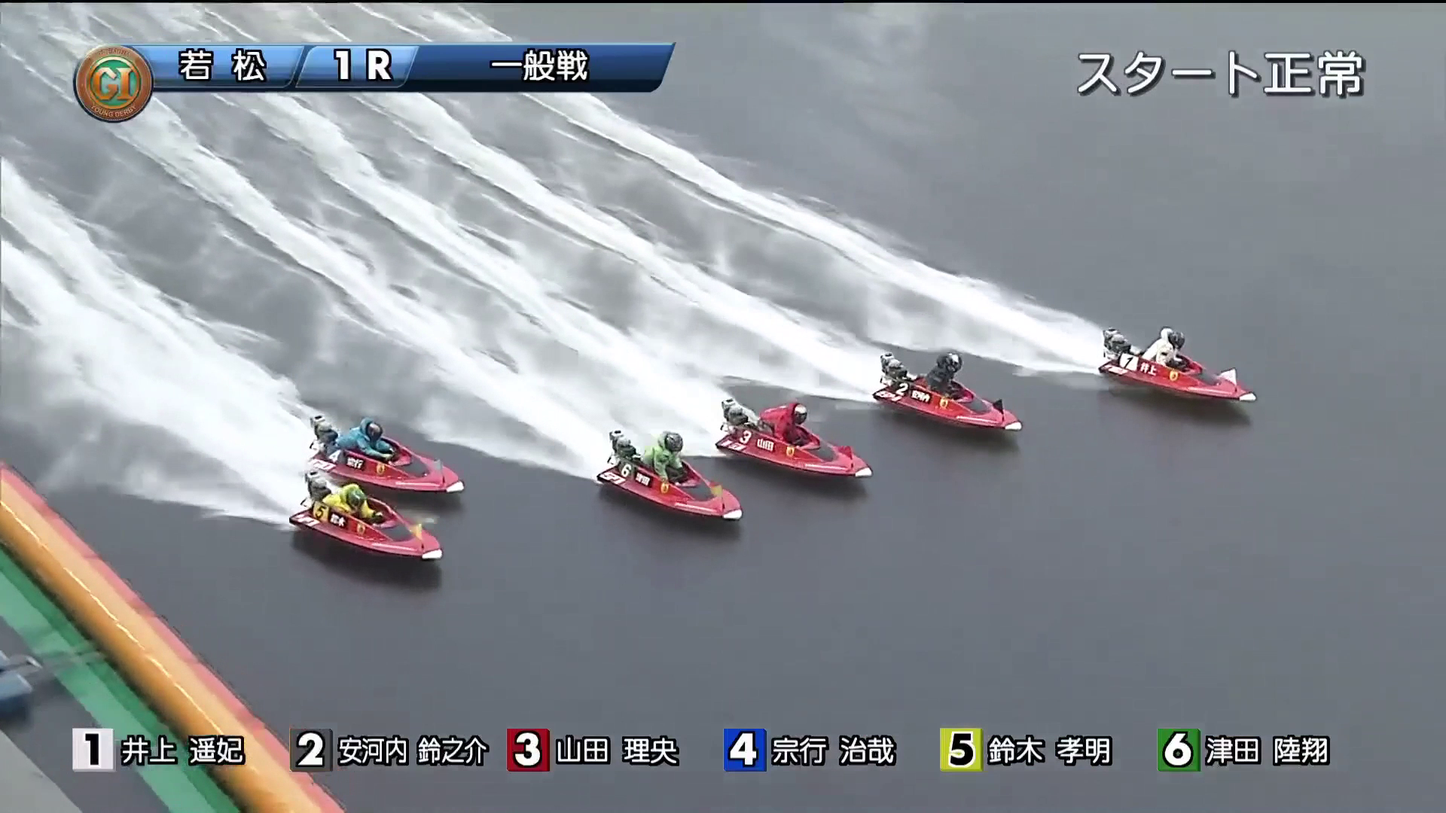１号艇: (1107, 344, 1240, 397)
２号艇: (883, 362, 1009, 421)
３号艇: (747, 425, 883, 467)
４号艇: (620, 456, 739, 520)
５号艇: (331, 433, 454, 488)
６号艇: (345, 520, 445, 577)
